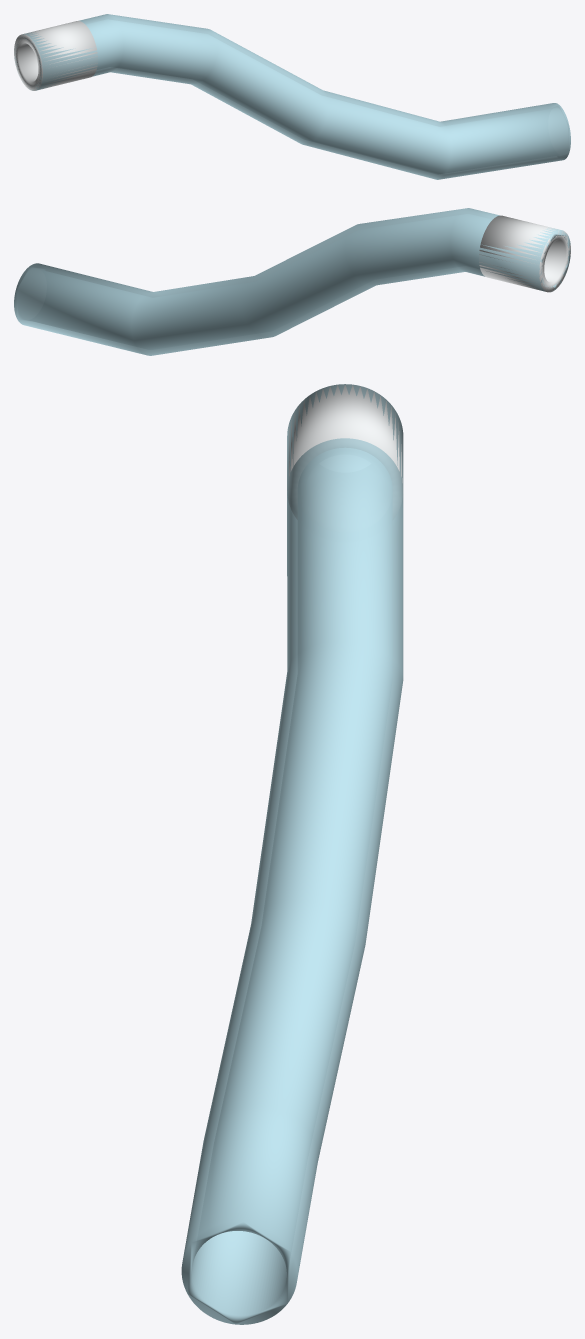
The model's file is anesthesia-circuit-hose-proxy-3b5beb67f27a.glb.
The picture shows the model from 3 angles, top to bottom: view 1: azimuth 30°, elevation 25°; view 2: azimuth 150°, elevation 25°; view 3: azimuth 270°, elevation 25°; orthographic projection. The views are drawn at different scales.
Visible parts, largest first — view 1: Anesthesia_Circuit_Hose, Anesthesia_Circuit_Connector; view 2: Anesthesia_Circuit_Hose, Anesthesia_Circuit_Connector; view 3: Anesthesia_Circuit_Hose, Anesthesia_Circuit_Connector.
Part boxes in pixels (x1=…): Anesthesia_Circuit_Hose: x1=14, y1=14, x2=570, y2=179; Anesthesia_Circuit_Connector: x1=14, y1=21, x2=97, y2=90; Anesthesia_Circuit_Hose: x1=14, y1=208, x2=570, y2=355; Anesthesia_Circuit_Connector: x1=479, y1=215, x2=570, y2=292; Anesthesia_Circuit_Hose: x1=181, y1=384, x2=403, y2=1324; Anesthesia_Circuit_Connector: x1=287, y1=384, x2=402, y2=518.
Bounding box in the file's own units: 0.221 × 0.094 × 0.042.
